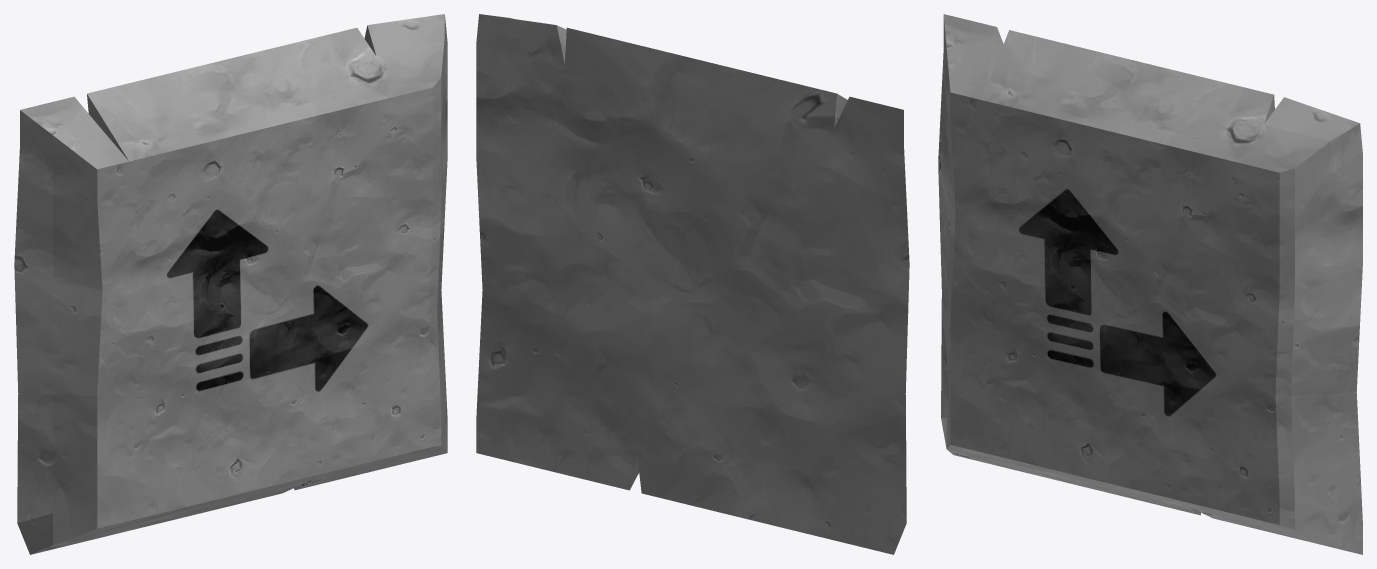
Rendered from Arrow_button.fbx.
3 views of the same model, side by side, from view 1: azimuth 30°, elevation 25°; view 2: azimuth 150°, elevation 25°; view 3: azimuth 330°, elevation 25° (orthographic). The views are drawn at different scales.
Visible parts, largest first — view 1: Cube.001; view 2: Cube.001; view 3: Cube.001.
Part boxes in pixels (left/top/right/bottom): Cube.001: left=14, top=14, right=447, bottom=554; Cube.001: left=476, top=14, right=909, bottom=554; Cube.001: left=938, top=14, right=1362, bottom=554.
Bounding box in the file's own units: 203 × 200 × 28.43.
